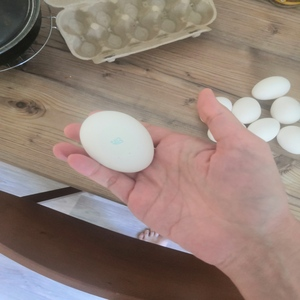white egg: (79, 110, 155, 174), (251, 75, 291, 101), (269, 95, 300, 125), (231, 95, 262, 124)
